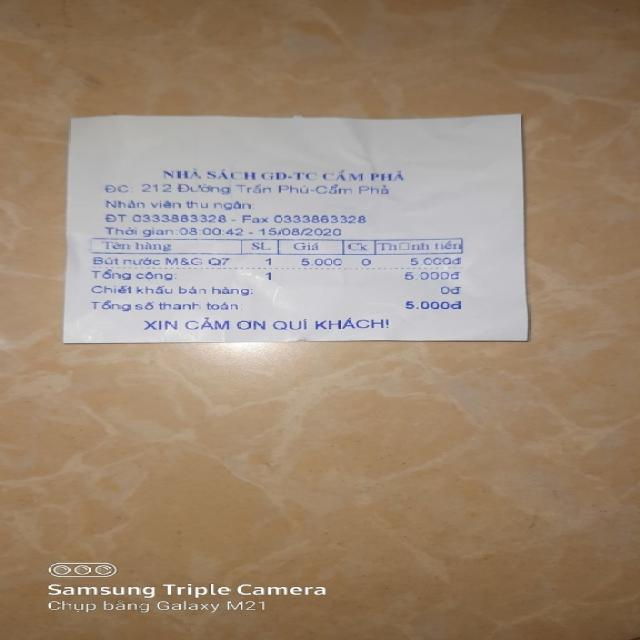Date: (260, 226, 346, 237)
Store_Name: (162, 168, 411, 183)
amount_number: (399, 299, 452, 311)
label_total: (89, 298, 242, 312)
